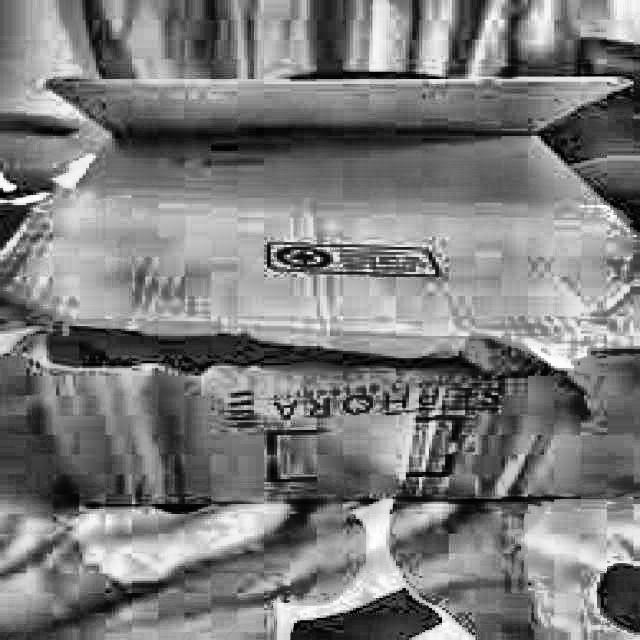box: (5, 53, 640, 527)
hole: (37, 304, 565, 380)
